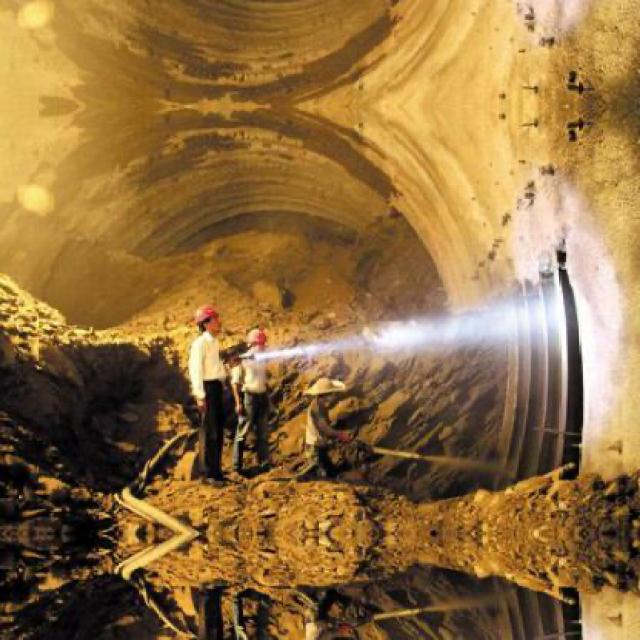con casco: (166, 284, 268, 345)
